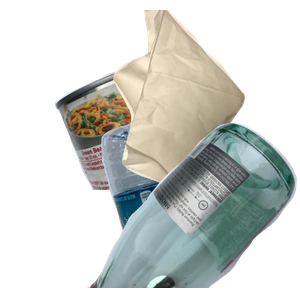glass: (86, 120, 300, 300)
metal: (52, 57, 260, 237)
plastic: (99, 120, 289, 300)
trash: (111, 10, 300, 190)
